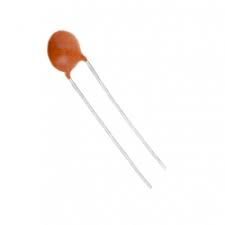ceramic capacitor: (36, 14, 102, 93)
